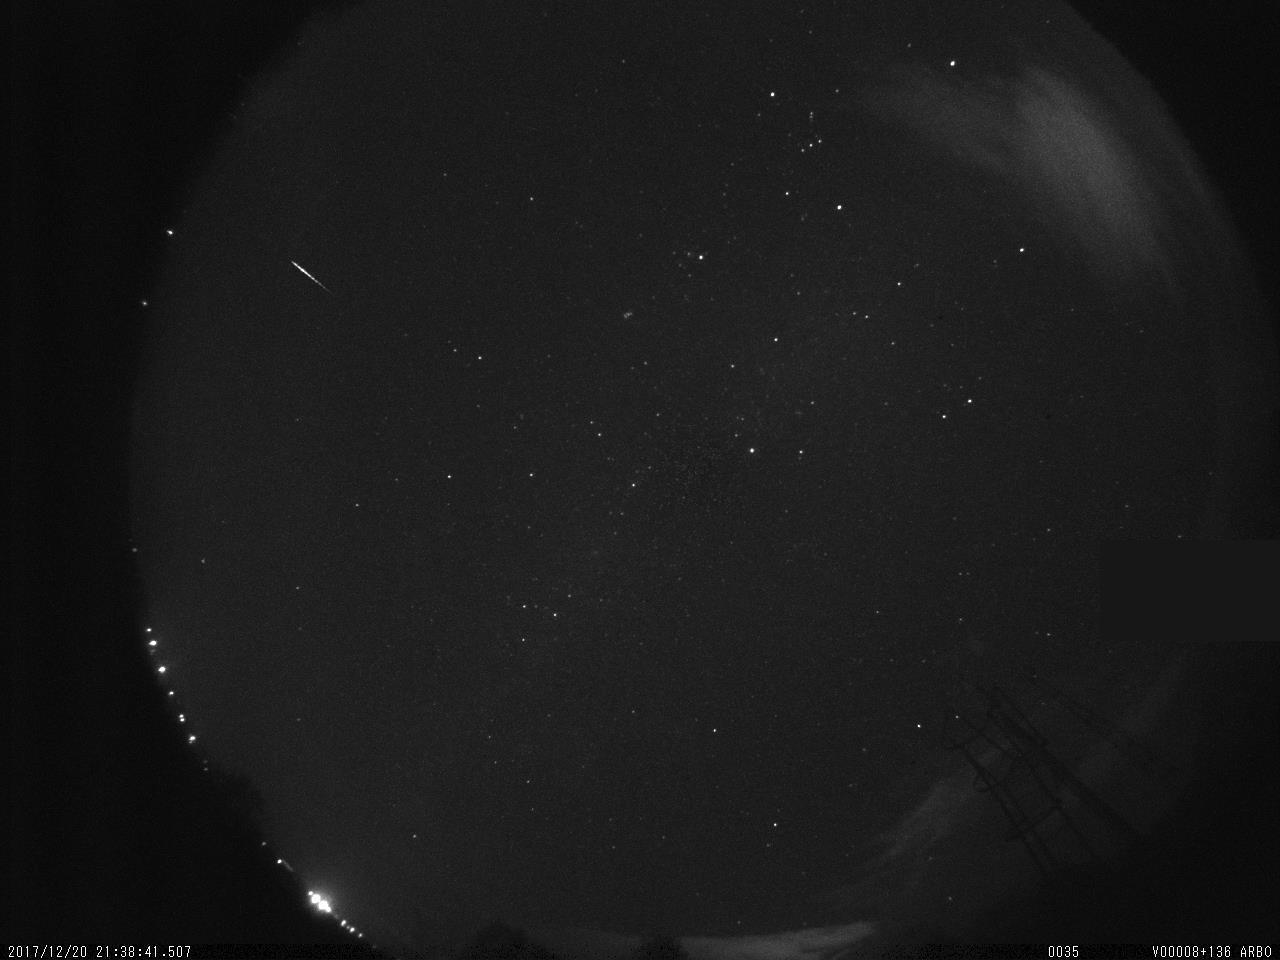meteor: (283, 253, 336, 295)
